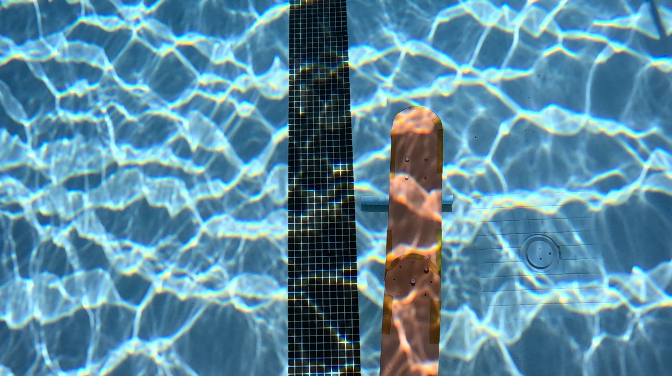pathmarker: (381, 109, 442, 374)
